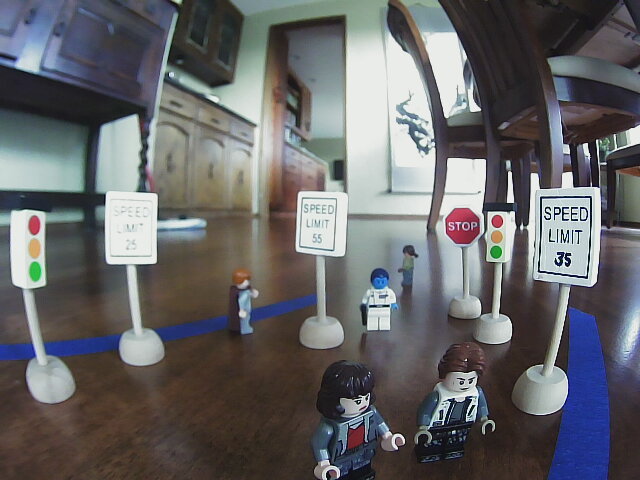SpeedLimit25: (105, 191, 158, 268)
SpeedLimit35: (535, 188, 595, 286)
SpeedLimit55: (292, 186, 345, 257)
StopSign: (444, 205, 483, 249)
TrafficLight: (8, 196, 55, 296), (481, 200, 514, 265)
person: (412, 336, 509, 466), (306, 359, 408, 480), (220, 260, 262, 337), (359, 265, 400, 341), (399, 243, 420, 300)
